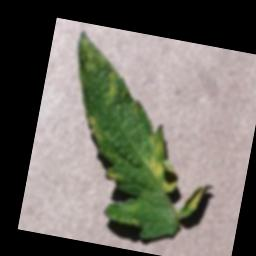Leaf_Mold: (134, 122, 189, 194), (175, 180, 211, 222), (104, 68, 124, 109), (80, 113, 107, 143), (104, 165, 124, 181)
